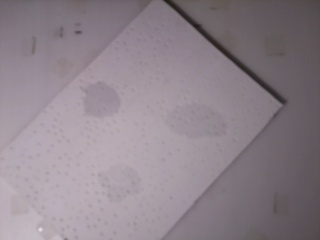Water_detected: (177, 101, 218, 141), (83, 86, 114, 114), (104, 172, 138, 197)
